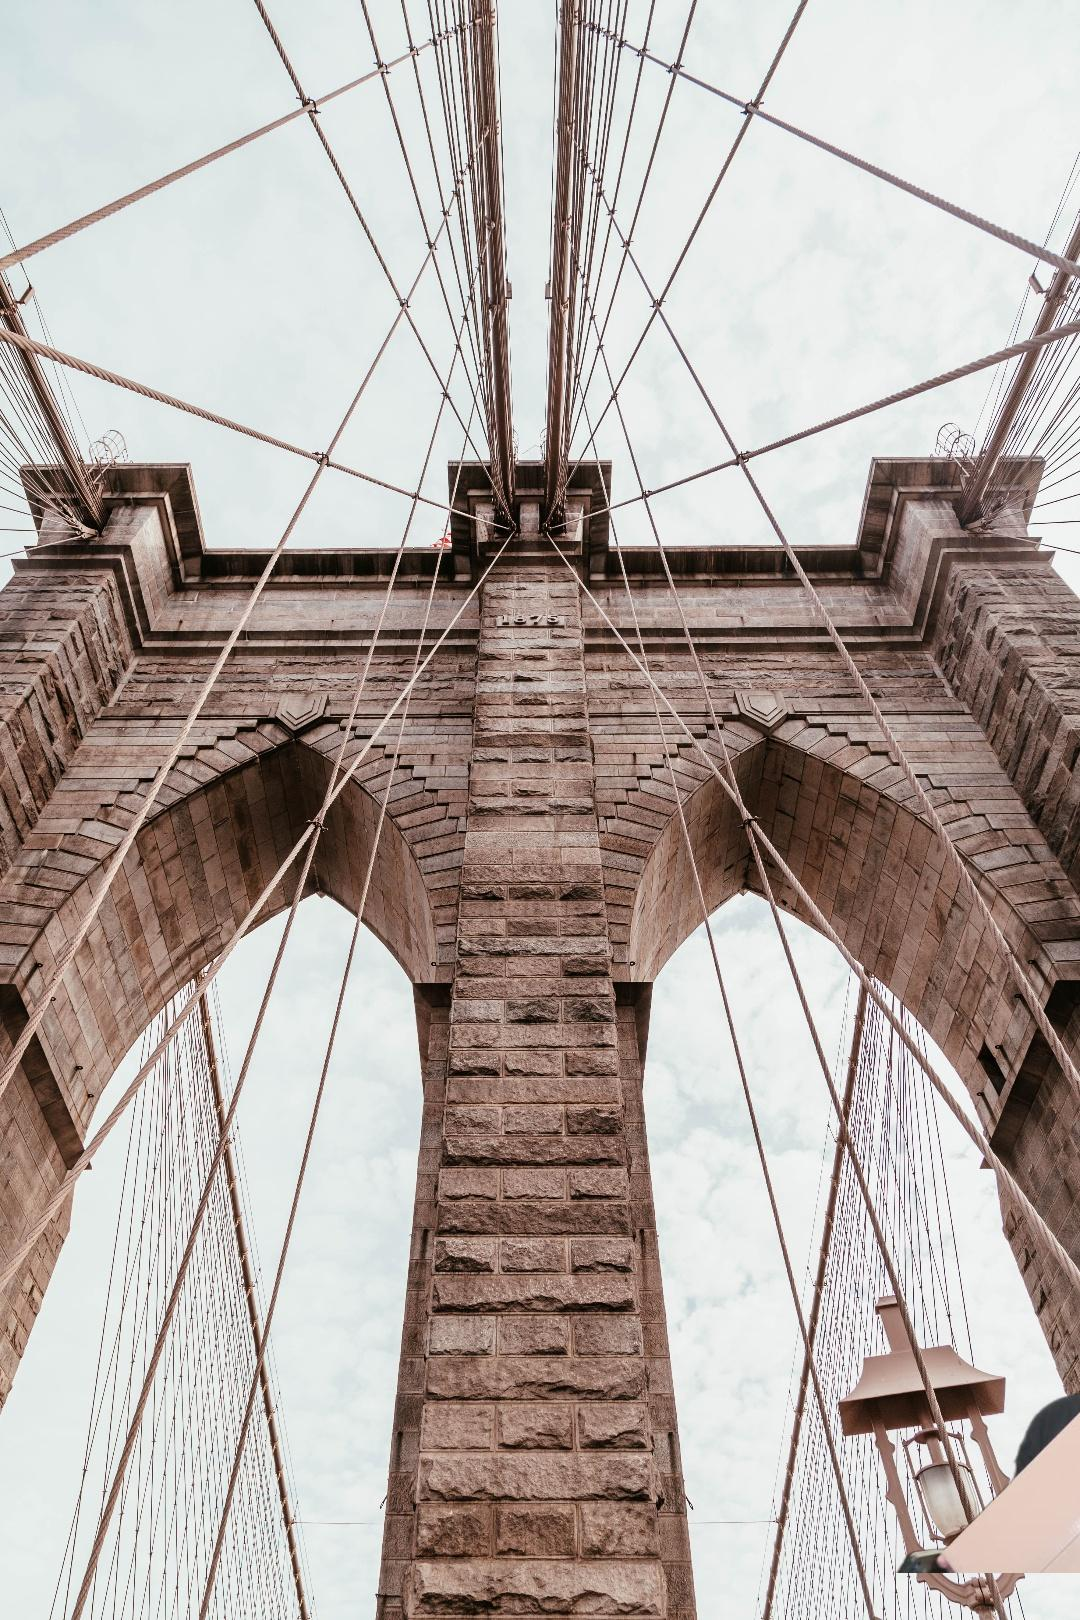paper-bag: (639, 1610, 931, 1620)
trashbox-cardboard: (892, 1217, 1080, 1573)
